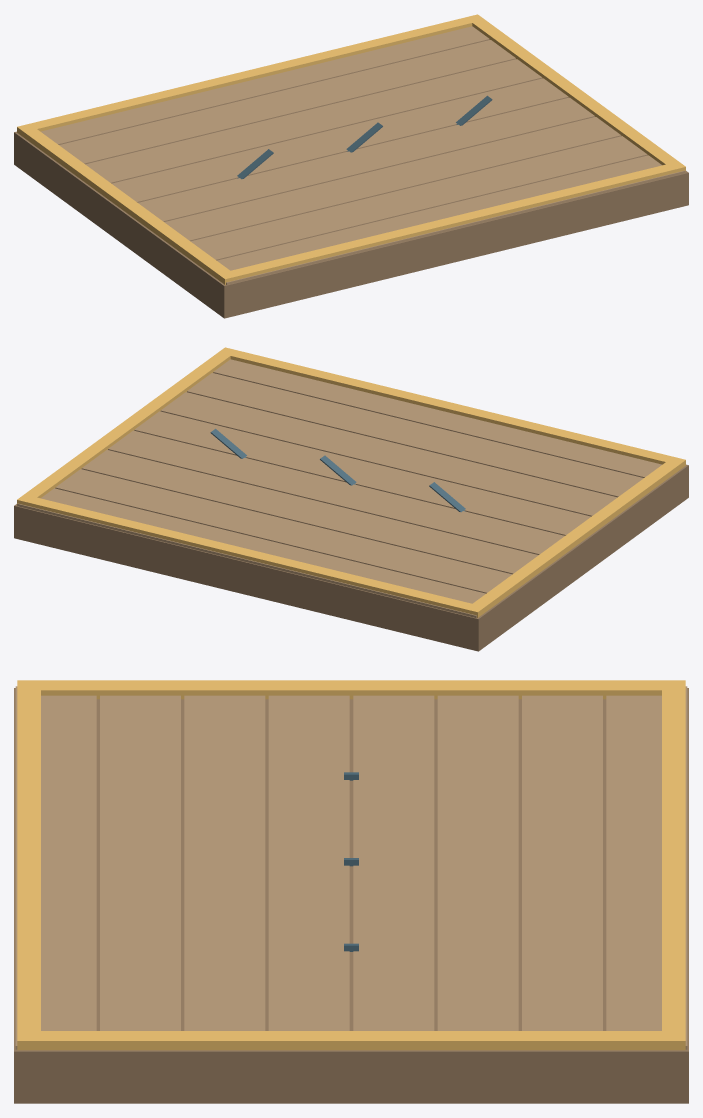
The model's file is CrumblingCourtTile.glb.
3 views of the same model, one above another, from view 1: azimuth 30°, elevation 25°; view 2: azimuth 150°, elevation 25°; view 3: azimuth 270°, elevation 25° (orthographic). The views are drawn at different scales.
Visible parts, largest first — view 1: CrumblingCourtTile; view 2: CrumblingCourtTile; view 3: CrumblingCourtTile.
Boxes of the visible parts, x1,y1,x2,y2 form: CrumblingCourtTile: [14, 14, 688, 318]; CrumblingCourtTile: [14, 347, 688, 651]; CrumblingCourtTile: [14, 680, 688, 1103].
Size of the model in its own units: 5.1 by 0.5652 by 4.
